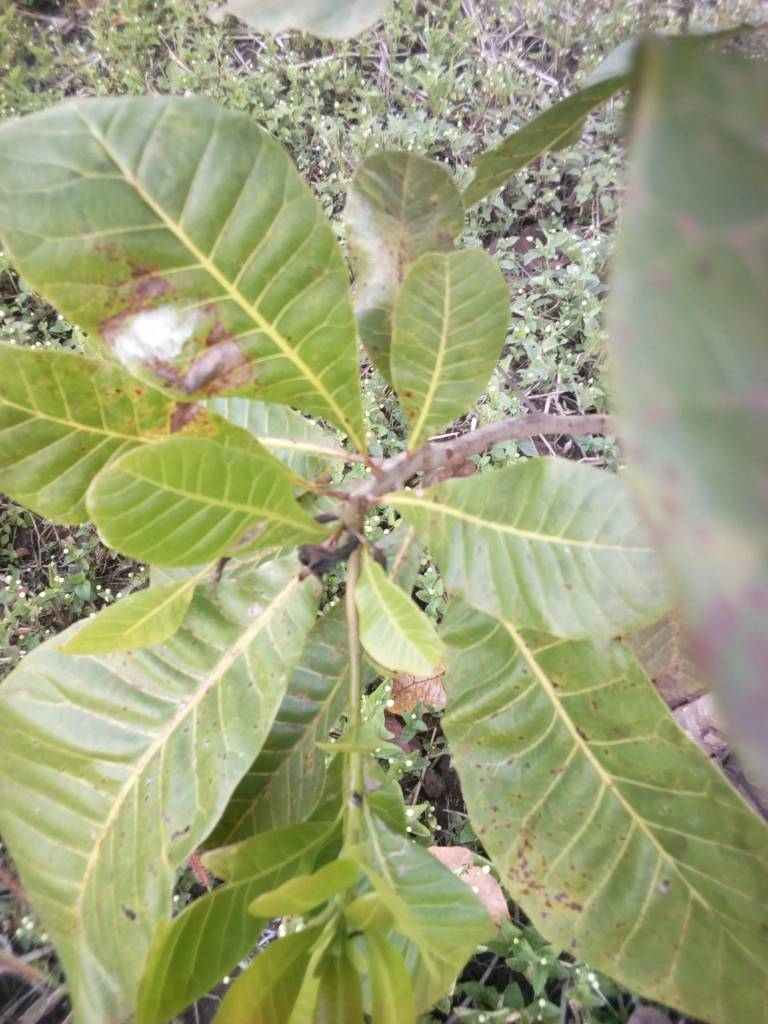Anthracnose: (468, 610, 762, 1021), (4, 91, 354, 421)
